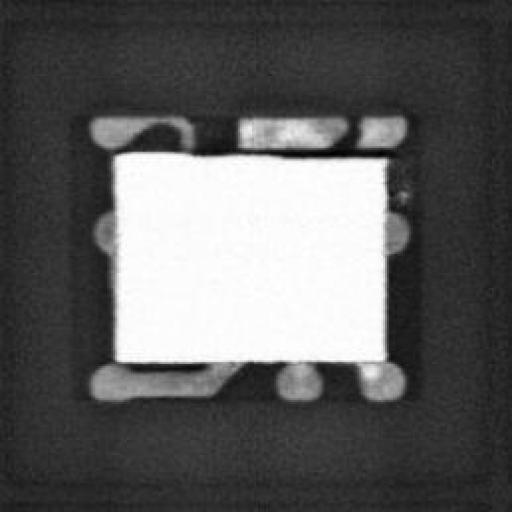DIE_BROKEN: (232, 142, 391, 160)
